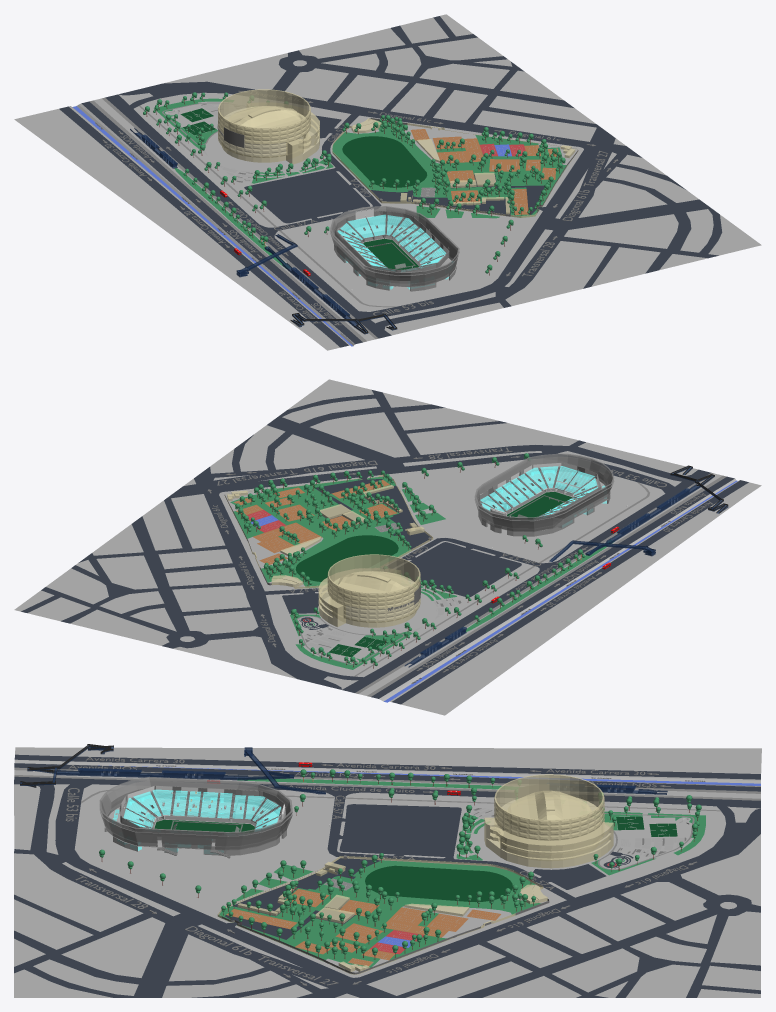
Rendered from 821_zyon_pru.glb.
The picture shows the model from 3 angles, top to bottom: view 1: azimuth 30°, elevation 25°; view 2: azimuth 150°, elevation 25°; view 3: azimuth 270°, elevation 25°; orthographic projection. The views are drawn at different scales.
Visible parts, largest first — view 1: Plane, Circle, nivel3, Text.006, plantabaja, planta2, suelorender2, Cube.005, Cube; view 2: Plane, Circle, nivel3, planta2, Text.006, plantabaja, suelorender2, Cube; view 3: Plane, Circle, nivel3, planta2, plantabaja, Text.006, suelorender2, Cube.005, Cube.014, Plane.025, piso1.001, Cube (+5 smaller).
Boxes of the visible parts, left/top/right/bottom form: Plane: left=14, top=14, right=761, bottom=350; Circle: left=218, top=89, right=319, bottom=164; nivel3: left=330, top=206, right=459, bottom=283; Text.006: left=95, top=91, right=607, bottom=325; plantabaja: left=236, top=222, right=456, bottom=334; planta2: left=330, top=209, right=459, bottom=286; suelorender2: left=338, top=225, right=456, bottom=286; Cube.005: left=334, top=211, right=449, bottom=274; Cube: left=347, top=227, right=434, bottom=270; Plane: left=14, top=379, right=761, bottom=715; Circle: left=318, top=554, right=420, bottom=627; nivel3: left=474, top=453, right=614, bottom=527; planta2: left=474, top=457, right=614, bottom=531; Text.006: left=212, top=447, right=712, bottom=683; plantabaja: left=478, top=466, right=728, bottom=561; suelorender2: left=481, top=471, right=607, bottom=530; Cube: left=494, top=477, right=580, bottom=516; Plane: left=14, top=747, right=761, bottom=997; Circle: left=484, top=774, right=613, bottom=868; nivel3: left=99, top=776, right=292, bottom=845; planta2: left=99, top=781, right=292, bottom=849; plantabaja: left=20, top=745, right=325, bottom=855; Text.006: left=65, top=757, right=705, bottom=985; suelorender2: left=104, top=798, right=281, bottom=848; Cube.005: left=119, top=785, right=285, bottom=834; Cube.014: left=547, top=783, right=667, bottom=794; Plane.025: left=323, top=856, right=543, bottom=928; piso1.001: left=138, top=810, right=283, bottom=849; Cube: left=164, top=791, right=235, bottom=822.
Size of the model in its own units: 70.63 by 5.98 by 89.06.
